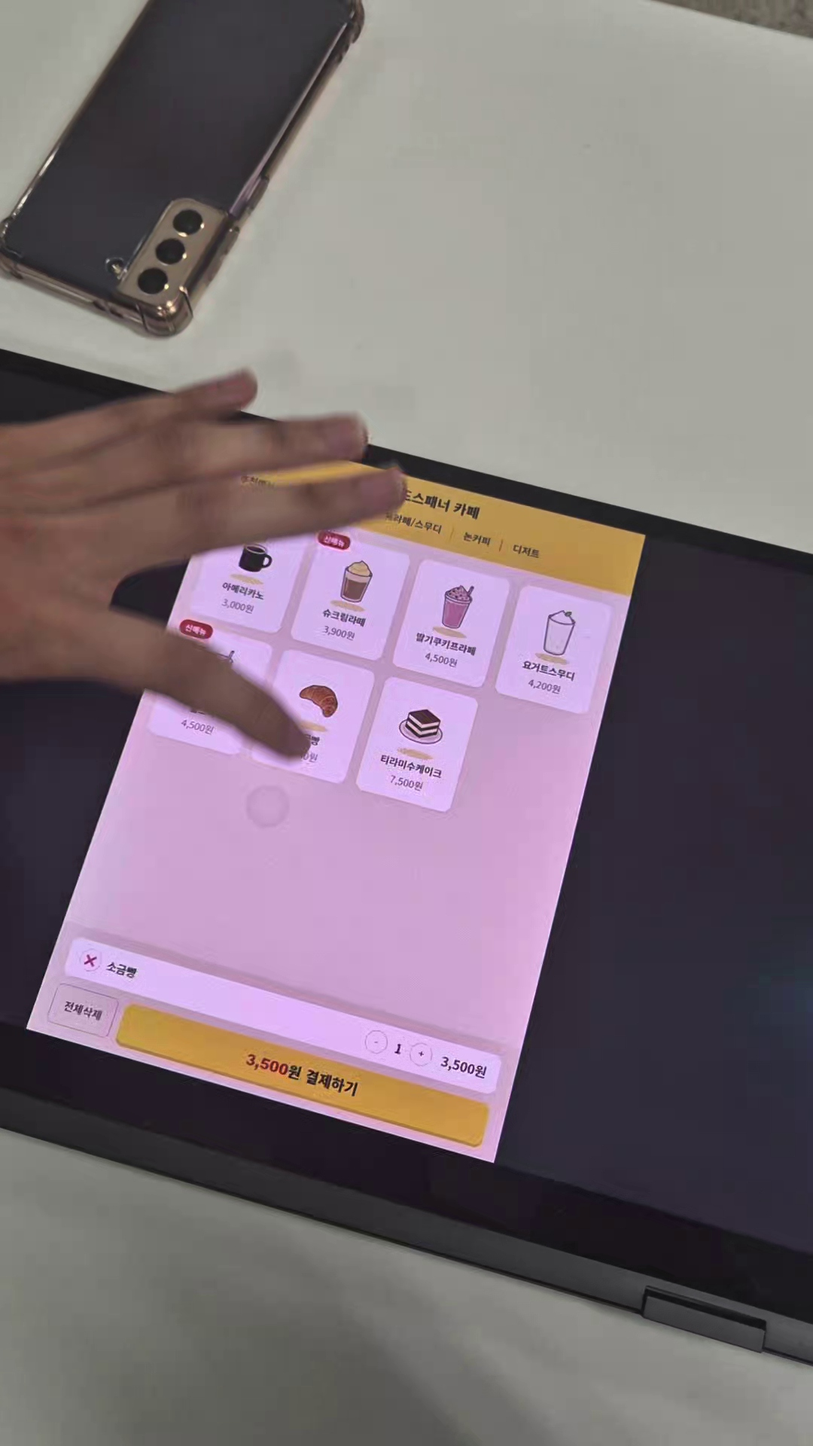action_button: (113, 1002, 492, 1149), (45, 983, 120, 1039)
cart_item: (61, 936, 504, 1096)
category_tab: (459, 529, 494, 549), (510, 543, 542, 560)
menu_back: (143, 620, 274, 758), (352, 675, 480, 814), (248, 648, 377, 785), (186, 506, 312, 635), (493, 584, 616, 716), (390, 558, 512, 690), (289, 533, 412, 663)
menu_name: (378, 751, 444, 780), (412, 630, 478, 658), (519, 658, 577, 684), (319, 606, 368, 630), (218, 580, 267, 603)
menu_price: (177, 715, 217, 738), (525, 677, 564, 698), (422, 650, 460, 670), (387, 773, 425, 793), (219, 596, 256, 616), (320, 624, 357, 642)
